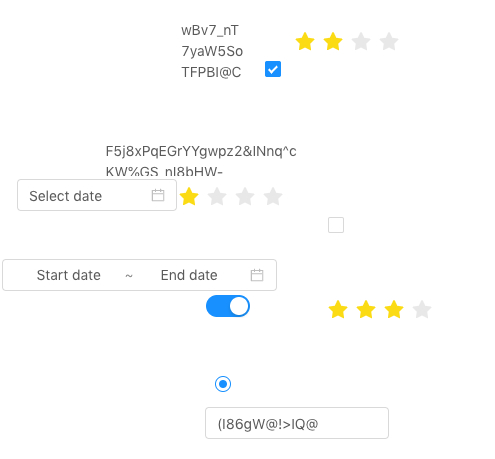Checkbox: (328, 214, 344, 235), (265, 58, 281, 79)
DatePicker: (17, 179, 177, 211)
Input: (205, 407, 389, 439)
Radio: (215, 373, 231, 393)
RangePicker: (2, 259, 277, 291)
Rate: (328, 293, 448, 325), (295, 25, 415, 57), (179, 180, 299, 212)
Switch: (206, 294, 250, 318)
Text: (106, 140, 303, 176), (181, 19, 245, 87)
